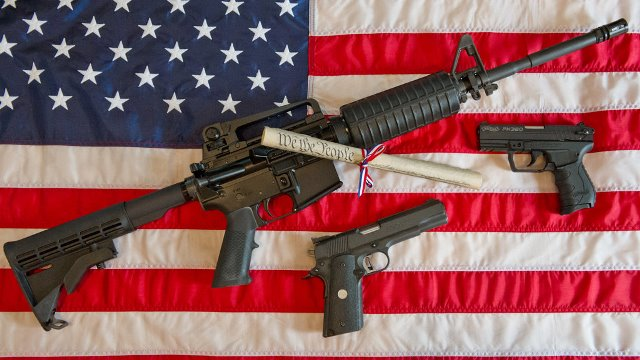Gun: (2, 17, 629, 334), (301, 197, 449, 341), (475, 119, 599, 217)
